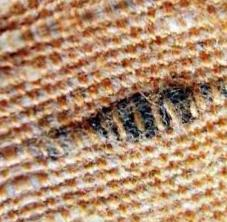slub: (34, 75, 227, 167)
